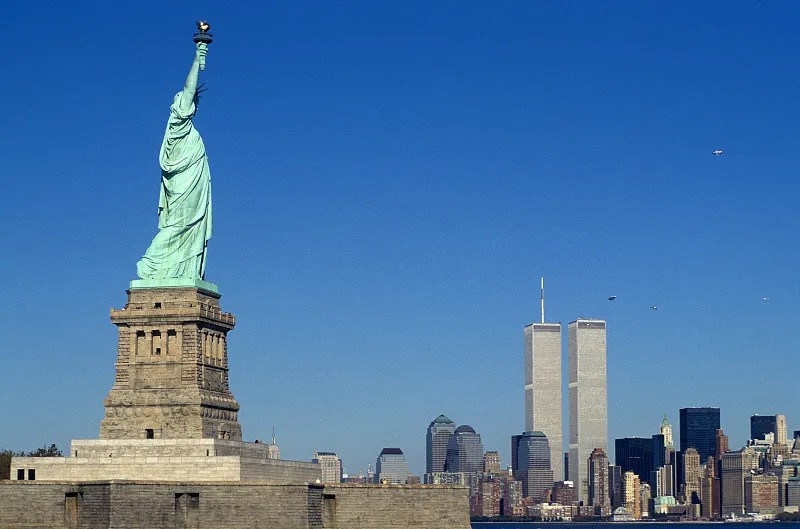SL: (99, 20, 242, 443)
